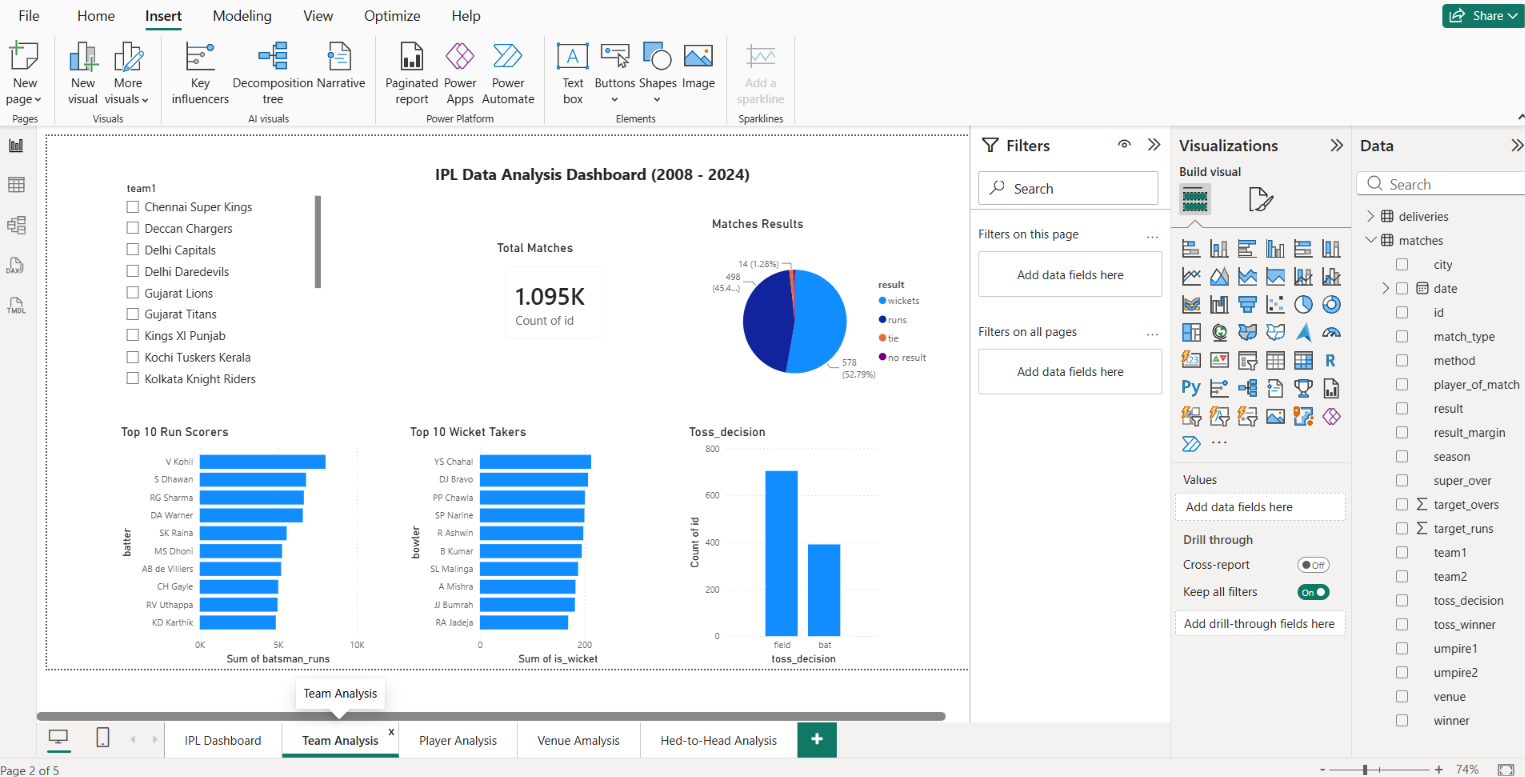

Layout of this report page (visuals, bound fields, positions):
{"tool":"powerbi","page":{"name":"Team Analysis","canvas":[1280,720],"ordinal":1},"visuals":[{"type":"slicer","fields":{"Values":["matches.team1"]},"box":[94.7,56.3,279.9,292.3],"z":0},{"type":"cardVisual","title":"Total Matches","fields":{"Data":["CountNonNull(matches.id)"]},"box":[602.4,140,164.7,150.9],"z":1000},{"type":"clusteredBarChart","title":"Top 10 Run Scorers","fields":{"Category":["deliveries.batter"],"Y":["Sum(deliveries.batsman_runs)"]},"box":[94.7,389.7,338.9,330.7],"z":2000},{"type":"clusteredBarChart","title":"Top 10 Wicket Takers","fields":{"Category":["deliveries.bowler"],"Y":["Sum(deliveries.is_wicket)"]},"box":[485.8,389.7,326.6,330.7],"z":3000},{"type":"pieChart","title":"Matches Results","fields":{"Category":["matches.result"],"Y":["CountNonNull(matches.id)"]},"box":[893.3,108.4,308.7,266.2],"z":4000},{"type":"clusteredColumnChart","title":" Toss_decision","fields":{"Category":["matches.toss_decision"],"Y":["CountNonNull(matches.id)"]},"box":[861.8,389.7,269,330.7],"z":5000},{"type":"textbox","box":[518.7,31.6,448.7,50.8],"z":5001}]}

Visuals, with their boxes on the page's 1280x720 design canvas (x1, y1, x2, y2). These are canvas units, not pixel positions in the 1525x777 screenshot, which may show the page scaled, cropped or inside an application window:
slicer - matches.team1: bbox=[95, 56, 375, 349]
"Total Matches" cardVisual: bbox=[602, 140, 767, 291]
"Top 10 Run Scorers" clusteredBarChart: bbox=[95, 390, 434, 720]
"Top 10 Wicket Takers" clusteredBarChart: bbox=[486, 390, 812, 720]
"Matches Results" pieChart: bbox=[893, 108, 1202, 375]
" Toss_decision" clusteredColumnChart: bbox=[862, 390, 1131, 720]
textbox: bbox=[519, 32, 967, 82]
